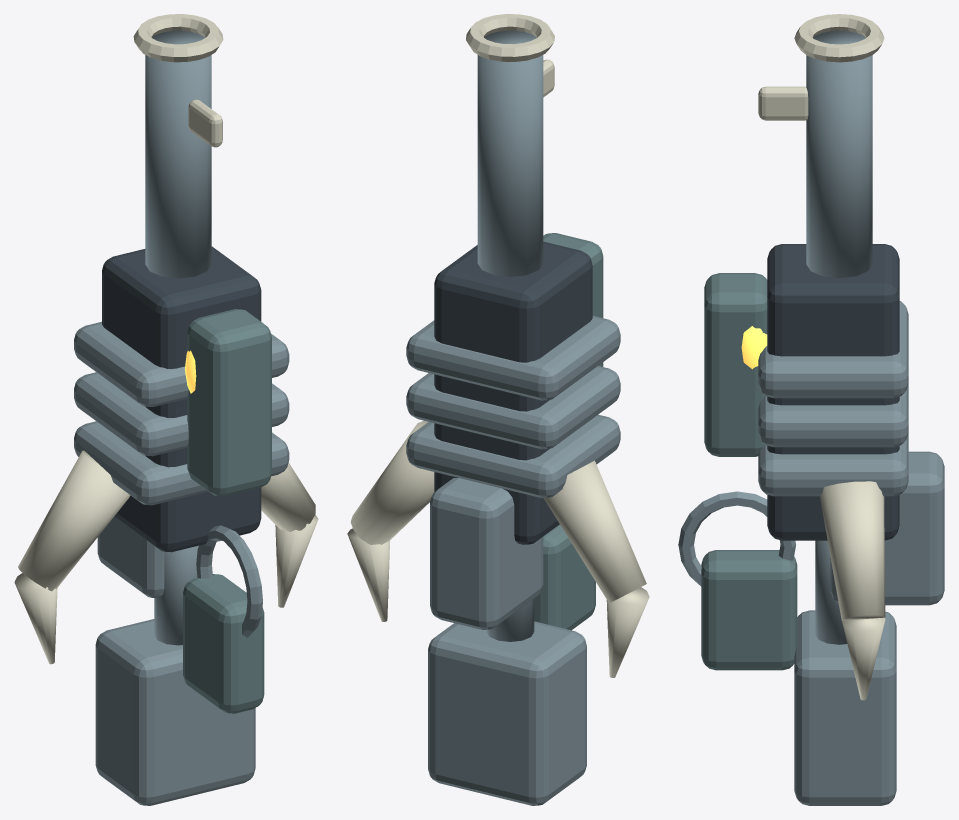
Rendered from YK_01_SoulRifle_Weapon_E02.glb.
3 views of the same model, side by side, from view 1: azimuth 30°, elevation 25°; view 2: azimuth 150°, elevation 25°; view 3: azimuth 270°, elevation 25° (orthographic).
Visible parts, largest first — view 1: SM_YK_01_SoulRifle_Weapon_P00, SM_YK_01_SoulRifle_Weapon_P01, SM_YK_01_SoulRifle_Weapon_P02; view 2: SM_YK_01_SoulRifle_Weapon_P00, SM_YK_01_SoulRifle_Weapon_P01, SM_YK_01_SoulRifle_Weapon_P02; view 3: SM_YK_01_SoulRifle_Weapon_P00, SM_YK_01_SoulRifle_Weapon_P01, SM_YK_01_SoulRifle_Weapon_P02.
Boxes of the visible parts, x1=… form: SM_YK_01_SoulRifle_Weapon_P00: x1=95, y1=14, x2=271, y2=805; SM_YK_01_SoulRifle_Weapon_P01: x1=74, y1=321, x2=289, y2=505; SM_YK_01_SoulRifle_Weapon_P02: x1=14, y1=450, x2=318, y2=664; SM_YK_01_SoulRifle_Weapon_P00: x1=428, y1=14, x2=603, y2=805; SM_YK_01_SoulRifle_Weapon_P01: x1=406, y1=316, x2=620, y2=498; SM_YK_01_SoulRifle_Weapon_P02: x1=347, y1=420, x2=649, y2=677; SM_YK_01_SoulRifle_Weapon_P00: x1=678, y1=14, x2=944, y2=805; SM_YK_01_SoulRifle_Weapon_P01: x1=758, y1=301, x2=908, y2=496; SM_YK_01_SoulRifle_Weapon_P02: x1=820, y1=481, x2=885, y2=700.
Size of the model in its own units: 0.5721 by 1.38 by 0.443.
